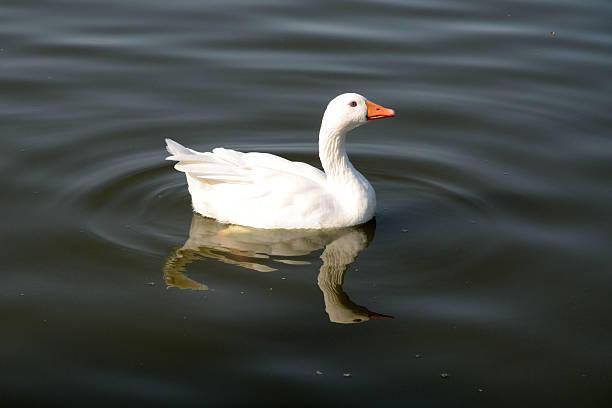goose: (150, 90, 401, 249)
